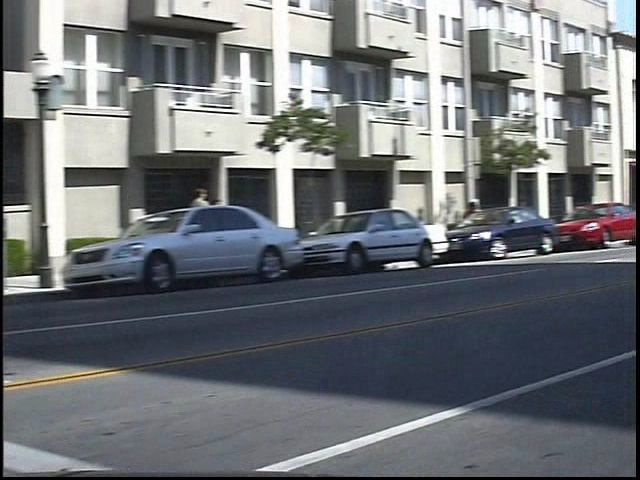person: (203, 183, 227, 261), (223, 193, 243, 257)
